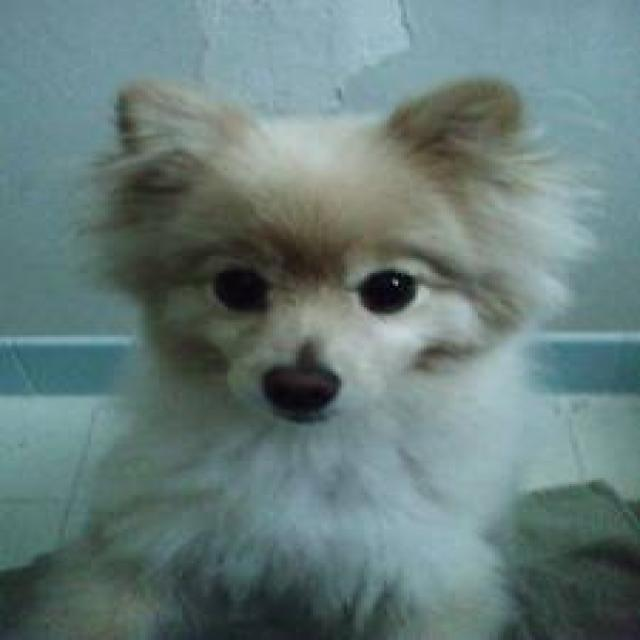dog-pomeranian: (23, 66, 560, 636)
